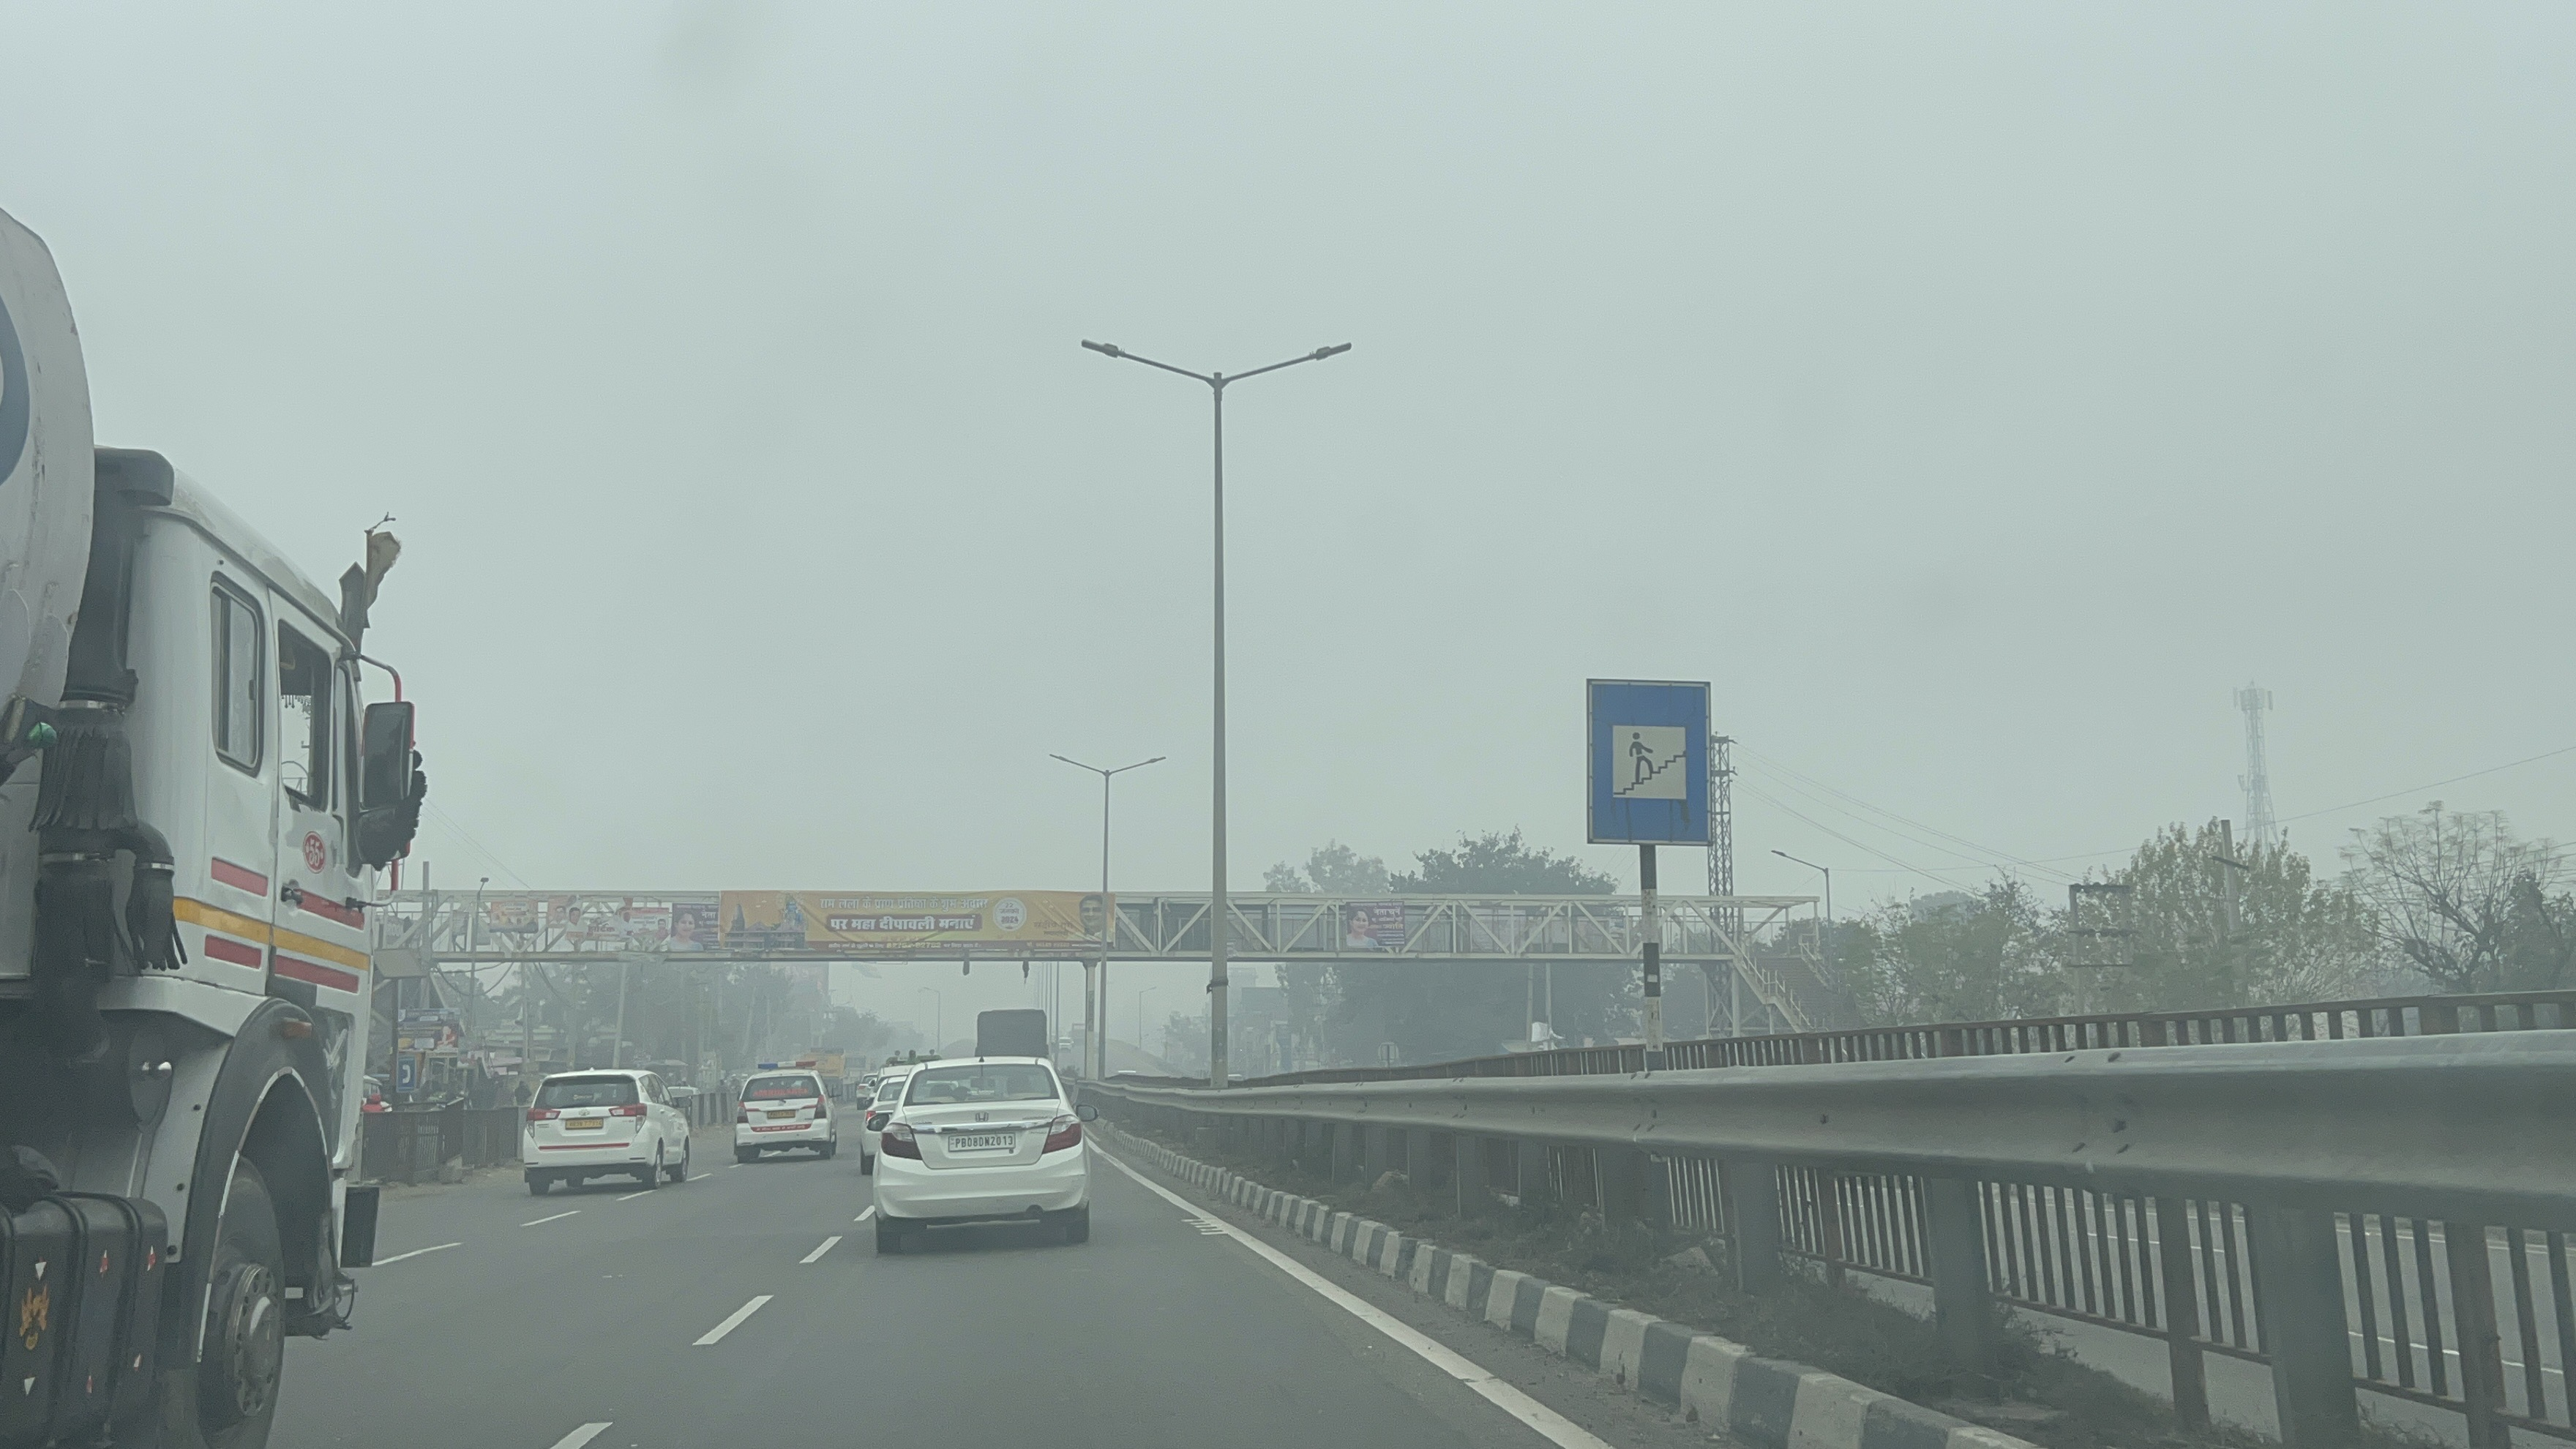Informatory: (1575, 663, 1727, 858)
